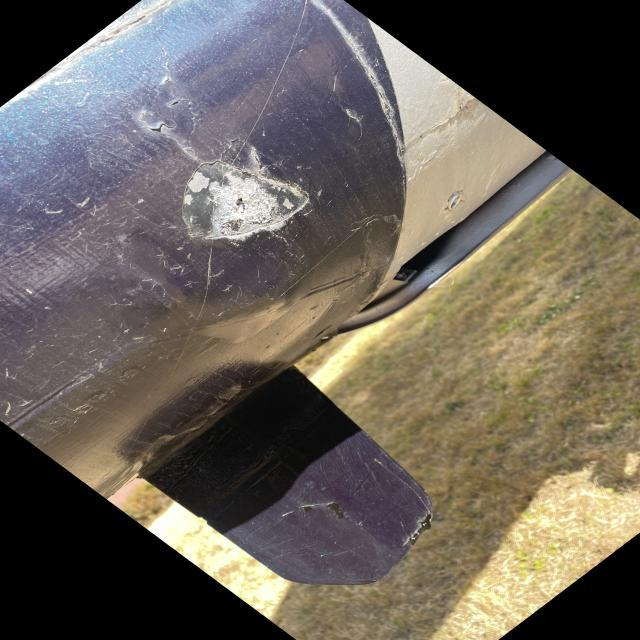crack: (132, 100, 199, 133)
dent: (160, 142, 340, 240)
